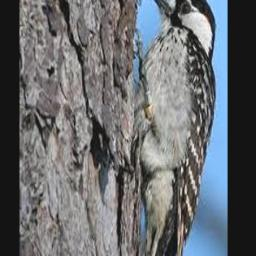Woodpecker: (112, 0, 217, 256)
